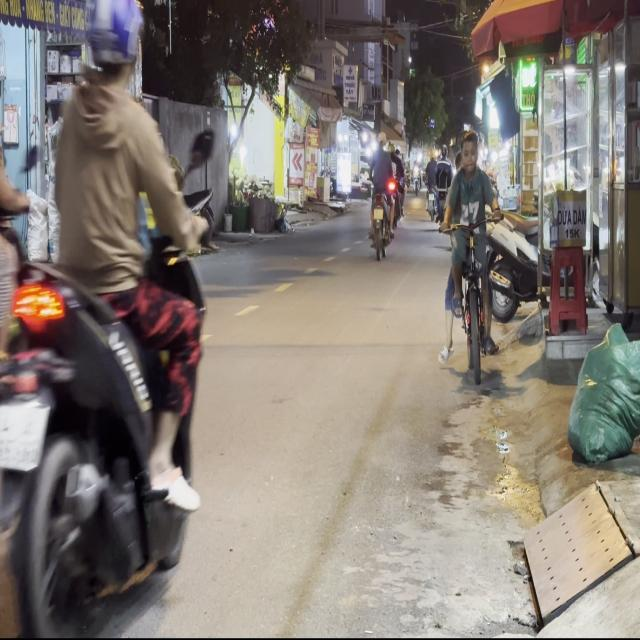helmet: (80, 0, 141, 92)
licenseplate: (0, 1, 213, 629)
nohelmet: (0, 401, 47, 467)
